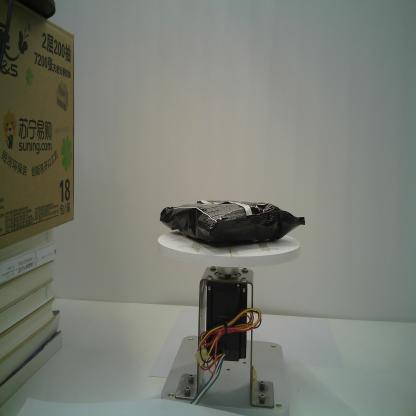Instant Noodles: (160, 199, 306, 246)
